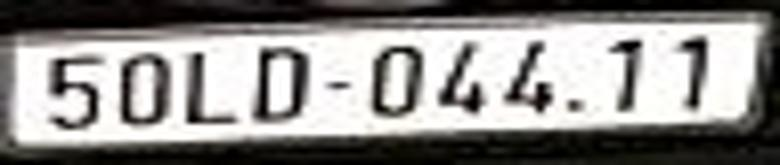-: (325, 79, 350, 91)
.: (564, 97, 588, 113)
0: (121, 52, 170, 126), (369, 47, 421, 116)
1: (609, 37, 641, 115), (678, 35, 705, 111)
4: (501, 36, 553, 114), (439, 41, 487, 117)
5: (47, 57, 106, 131)
D: (256, 47, 306, 120)
L: (187, 52, 233, 124)
